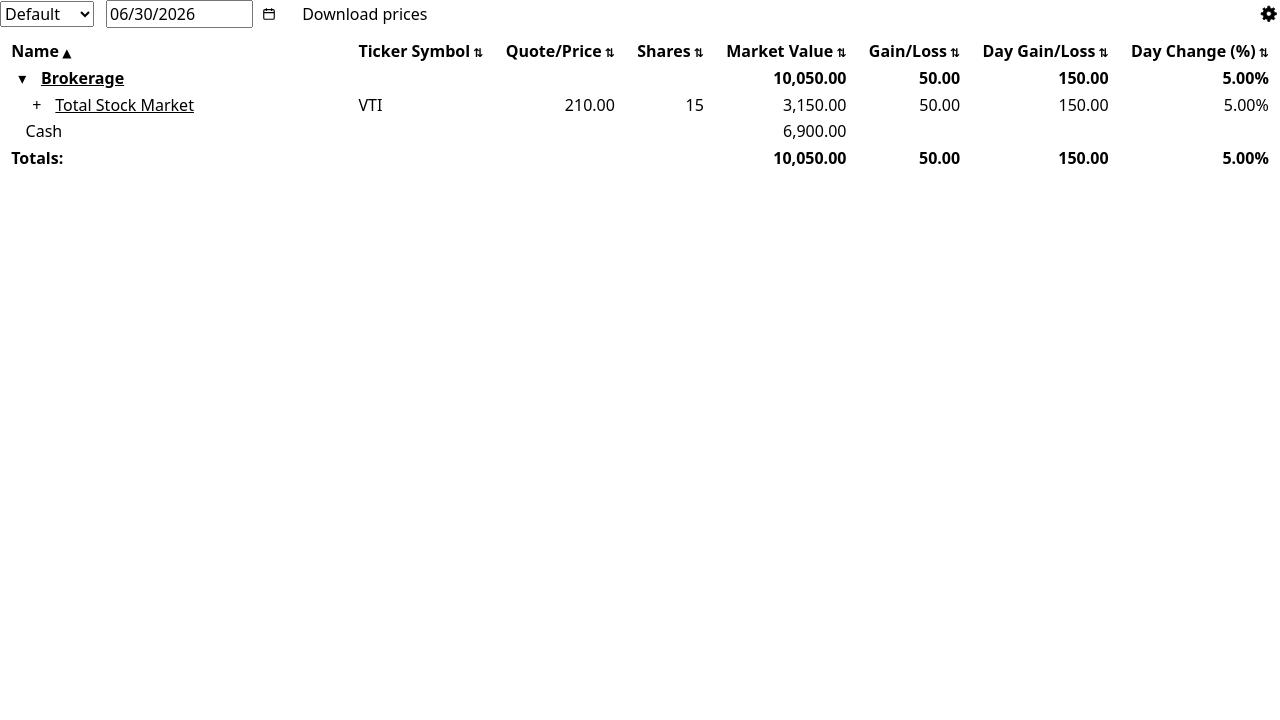
Test: Investments view › the calendar's double arrows move one month; a day sets the date
Expected: the button "Brokerage" is shown, [41,67,124,89]
Step 1. Click the button named "Show calendar" → x=269, y=14, box [257,4,281,24]
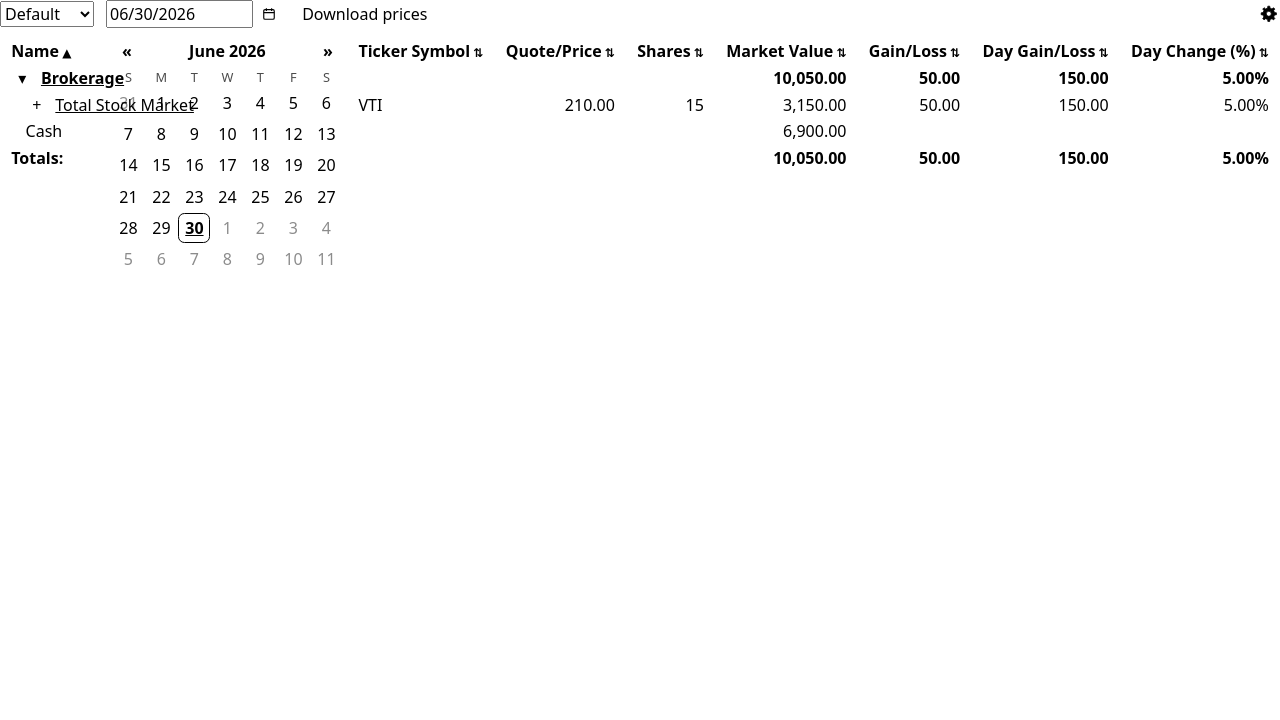
Expected: the text "June 2026" is shown, [189,40,266,62]
Step 2. Click the button named "Previous month" → x=127, y=51, box [112,38,141,64]
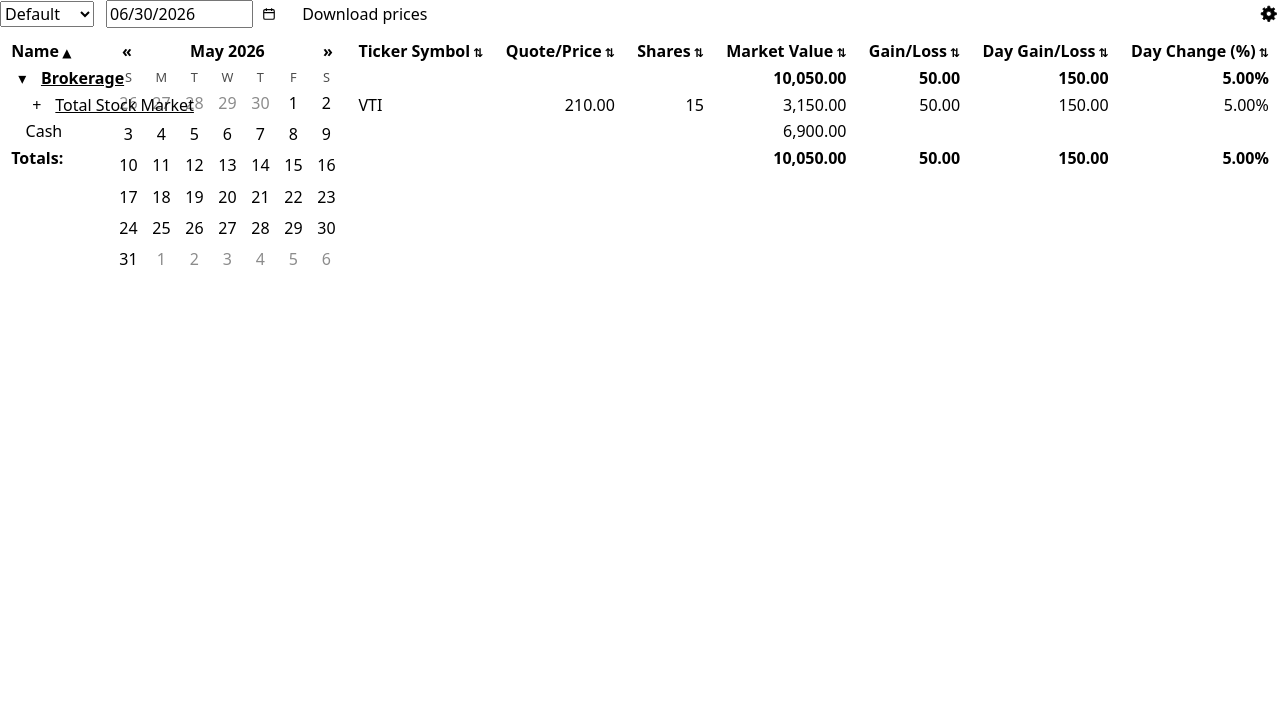
Expected: the text "May 2026" is shown, [190,40,265,62]
Step 3. Click the button named "Next month" → x=328, y=51, box [313,38,342,64]
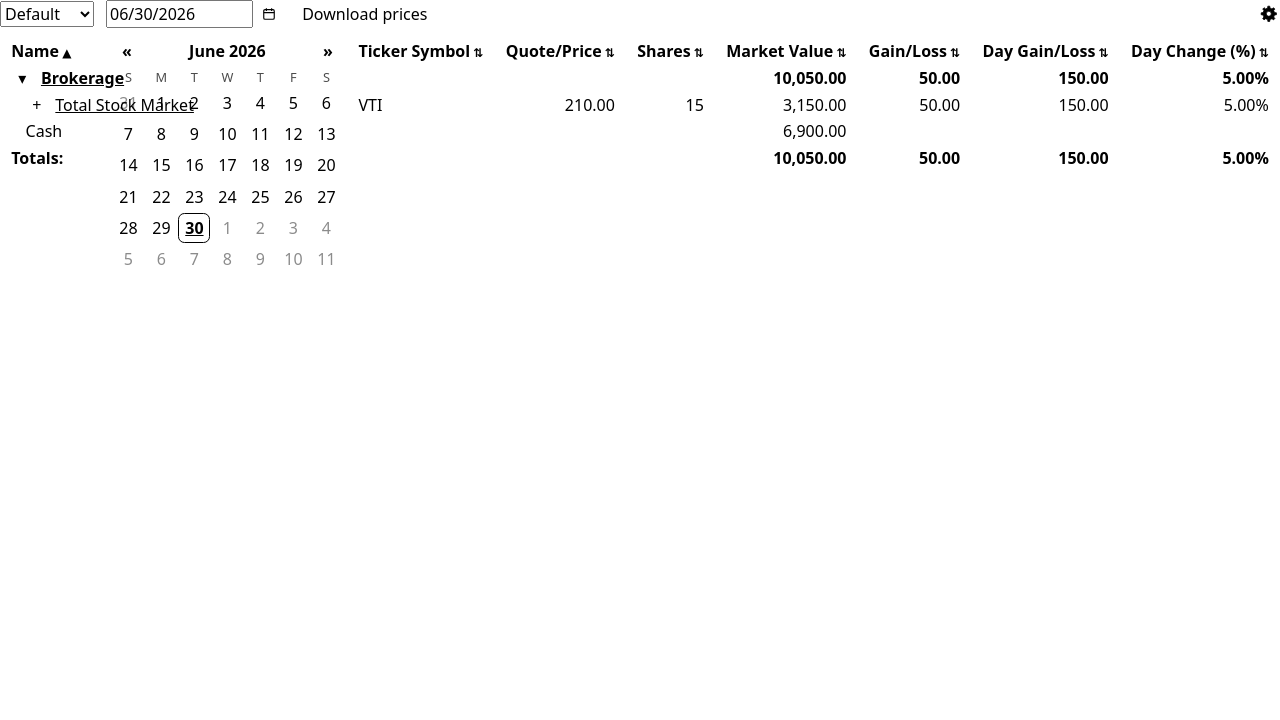
Step 4. Click the button named "Next month" → x=328, y=51, box [313,38,342,64]
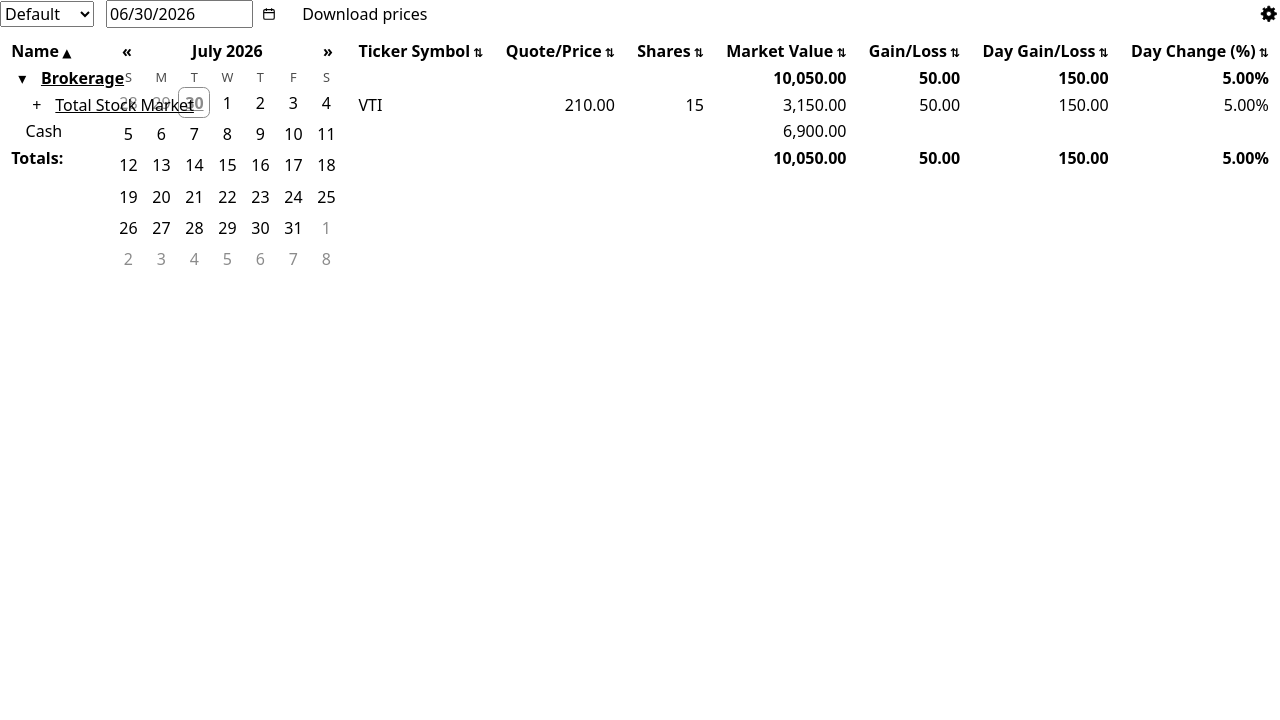
Expected: the text "July 2026" is shown, [192,40,263,62]
Step 5. Click the button named "07/04/2026" → x=326, y=103, box [310,87,342,118]
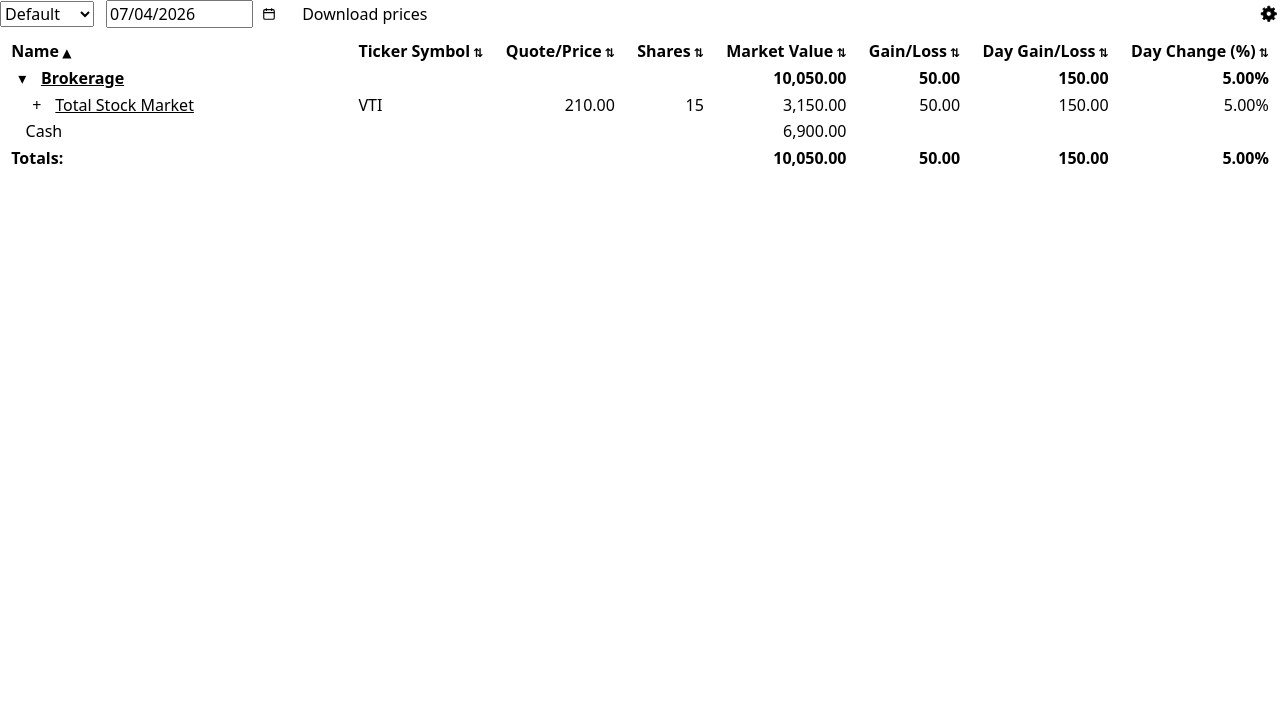
Expected: the field named "As of" holds "07/04/2026", [106,0,253,28]
